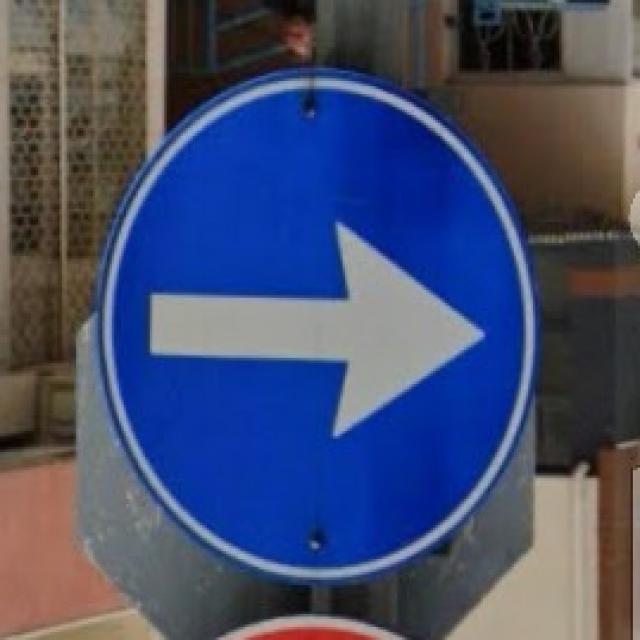Turn Right: (87, 57, 532, 582)
